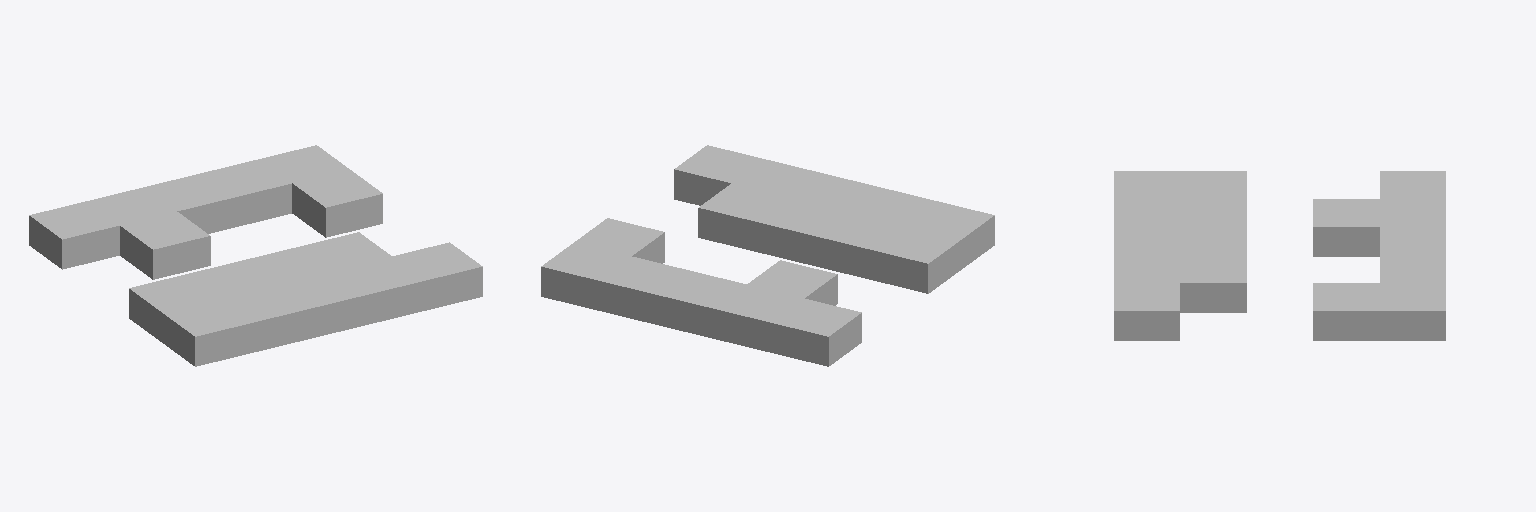
File: 57s_block.obj
3 renders of one model, left to right at view 1: azimuth 30°, elevation 25°; view 2: azimuth 150°, elevation 25°; view 3: azimuth 270°, elevation 25°, orthographic.
Visible parts, largest first — view 1: block.4.3_block.4470, block.0.4_block.4458, block.1.3_block.4461, block.0.0_block.4455, block.4.0_block.4469, block.2.0_block.4463, block.1.0_block.4459, block.3.0_block.4466, block.3.4_block.4468, block.2.4_block.4465, block.0.1_block.4456, block.1.1_block.4460 (+4 smaller); view 2: block.0.1_block.4456, block.0.4_block.4458, block.4.4_block.4471, block.1.1_block.4460, block.2.4_block.4465, block.3.1_block.4467, block.1.4_block.4462, block.2.1_block.4464, block.3.4_block.4468, block.4.0_block.4469, block.0.0_block.4455, block.1.3_block.4461 (+4 smaller); view 3: block.1.3_block.4461, block.3.1_block.4467, block.4.3_block.4470, block.4.0_block.4469, block.4.4_block.4471, block.0.1_block.4456, block.1.1_block.4460, block.2.1_block.4464, block.0.0_block.4455, block.0.4_block.4458, block.1.0_block.4459, block.1.4_block.4462 (+4 smaller).
Part boxes in pixels (x1,y1,x2,y2): block.4.3_block.4470: (292,169,382,237); block.0.4_block.4458: (29,201,119,269); block.1.3_block.4461: (120,212,210,279); block.0.0_block.4455: (162,298,252,366); block.4.0_block.4469: (392,242,482,310); block.2.0_block.4463: (277,270,367,338); block.1.0_block.4459: (220,285,309,352); block.3.0_block.4466: (335,257,424,324); block.3.4_block.4468: (202,159,291,226); block.2.4_block.4465: (145,173,234,233); block.0.1_block.4456: (129,274,218,341); block.1.1_block.4460: (187,260,276,297); block.0.1_block.4456: (871,226,961,293); block.0.4_block.4458: (771,298,861,366); block.4.4_block.4471: (541,242,631,310); block.1.1_block.4460: (813,212,903,279); block.2.4_block.4465: (656,270,746,338); block.3.1_block.4467: (698,183,788,251); block.1.4_block.4462: (714,285,803,352); block.2.1_block.4464: (756,198,846,265); block.3.4_block.4468: (599,257,688,324); block.4.0_block.4469: (674,145,763,205); block.0.0_block.4455: (904,201,994,268); block.1.3_block.4461: (747,260,837,305); block.1.3_block.4461: (1313,199,1379,256); block.3.1_block.4467: (1180,255,1246,312); block.4.3_block.4470: (1313,283,1379,340); block.4.0_block.4469: (1114,283,1179,340); block.4.4_block.4471: (1380,283,1445,340); block.0.1_block.4456: (1180,171,1246,198); block.1.1_block.4460: (1180,199,1246,226); block.2.1_block.4464: (1180,227,1246,254); block.0.0_block.4455: (1114,171,1179,198); block.0.4_block.4458: (1380,171,1445,198); block.1.0_block.4459: (1114,199,1179,226); block.1.4_block.4462: (1380,199,1445,226).
Bounding box in the file's own units: 10 × 1 × 10.